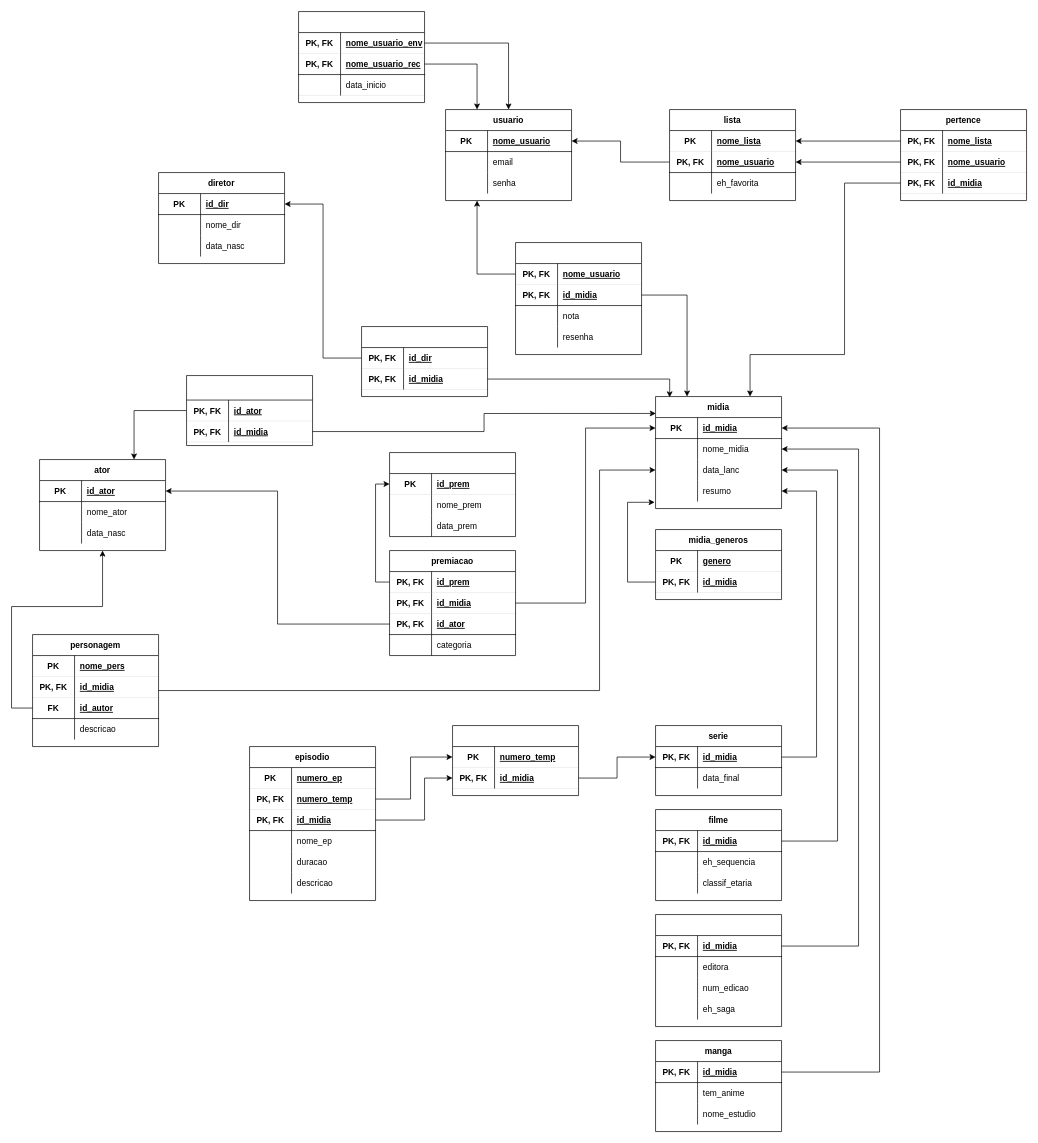
Image size: 1038x1143. Some labels were removed from this diagram. The box of each missing label's shape, as (x1, y1, x2, y2) in pixels:
amizade: (298, 11, 425, 103)
avaliacao: (515, 242, 642, 355)
direcao: (361, 326, 488, 397)
livro: (655, 914, 782, 1027)
participacao_ator: (186, 375, 313, 446)
premio: (389, 452, 516, 537)
temporada: (452, 725, 579, 796)
